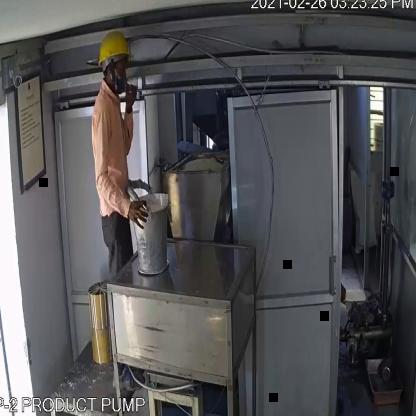helmet: (95, 30, 133, 69)
